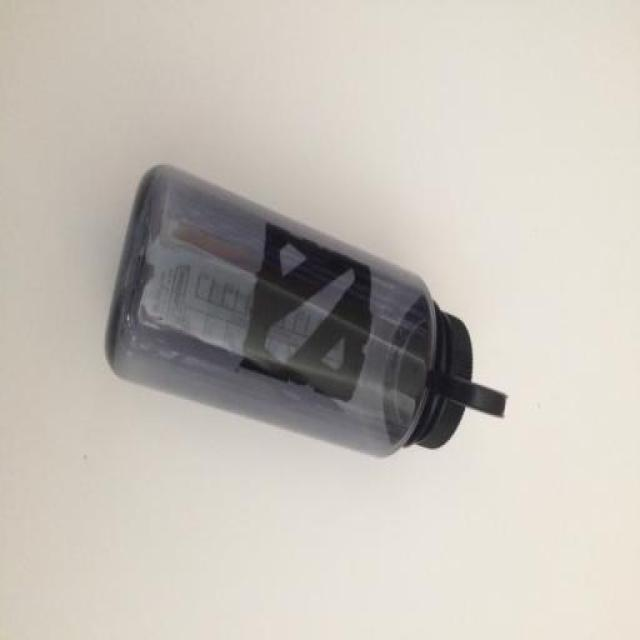Plastic: (105, 162, 509, 457)
